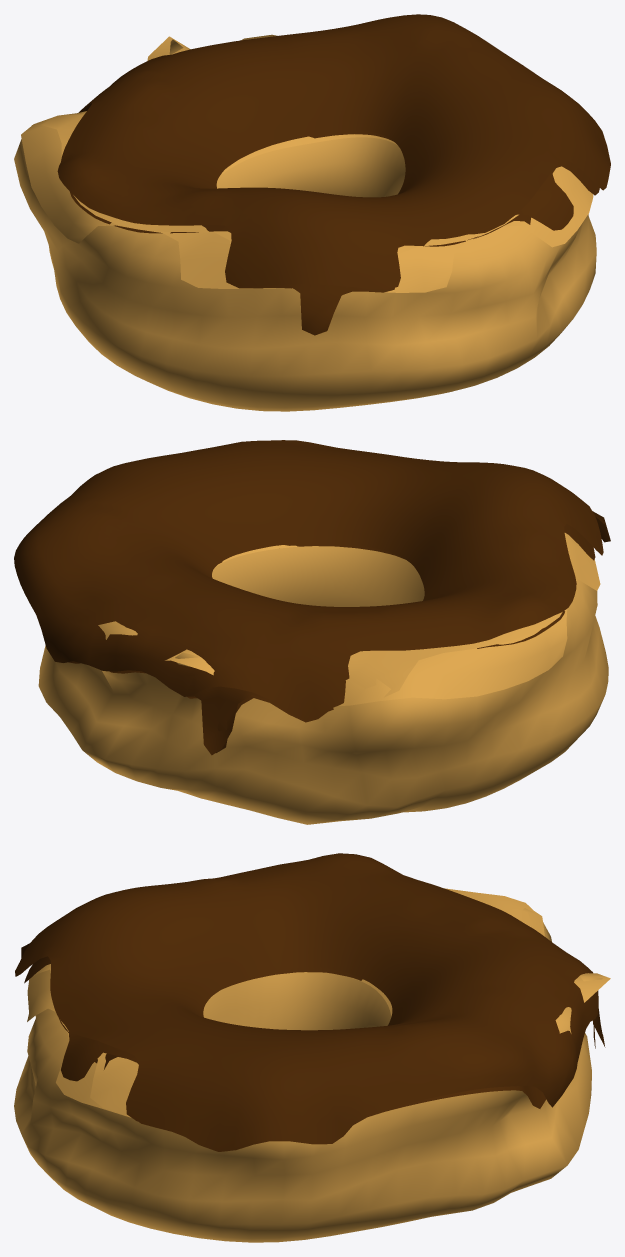
Rendered from donut.glb.
3 renders of one model, top to bottom at view 1: azimuth 30°, elevation 25°; view 2: azimuth 150°, elevation 25°; view 3: azimuth 270°, elevation 25°, orthographic. The views are drawn at different scales.
Visible parts, largest first — view 1: icing, donut; view 2: icing, donut; view 3: icing, donut.
Boxes of the visible parts, left/top/right/bottom form: icing: left=57, top=14, right=610, bottom=335; donut: left=14, top=34, right=596, bottom=411; icing: left=14, top=440, right=610, bottom=755; donut: left=38, top=533, right=608, bottom=824; icing: left=15, top=853, right=605, bottom=1151; donut: left=14, top=888, right=610, bottom=1242.
Size of what is drawn, in the model's own units: 0.1516 by 0.0622 by 0.1515.
